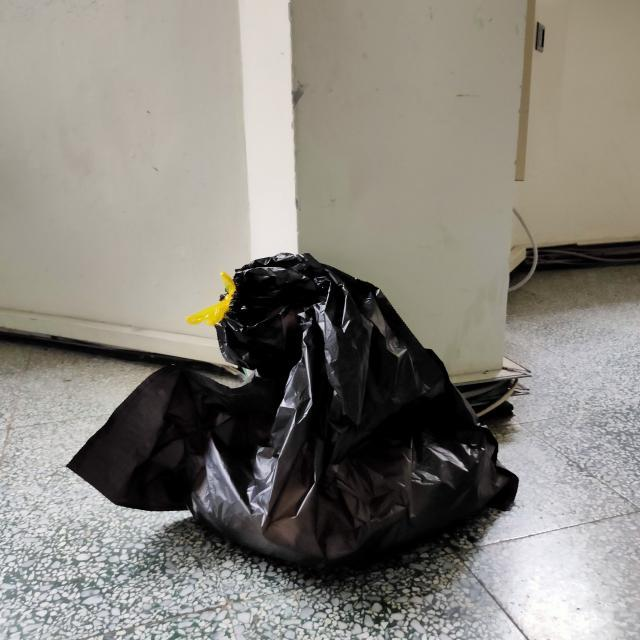Vinyl: (49, 209, 542, 596)
